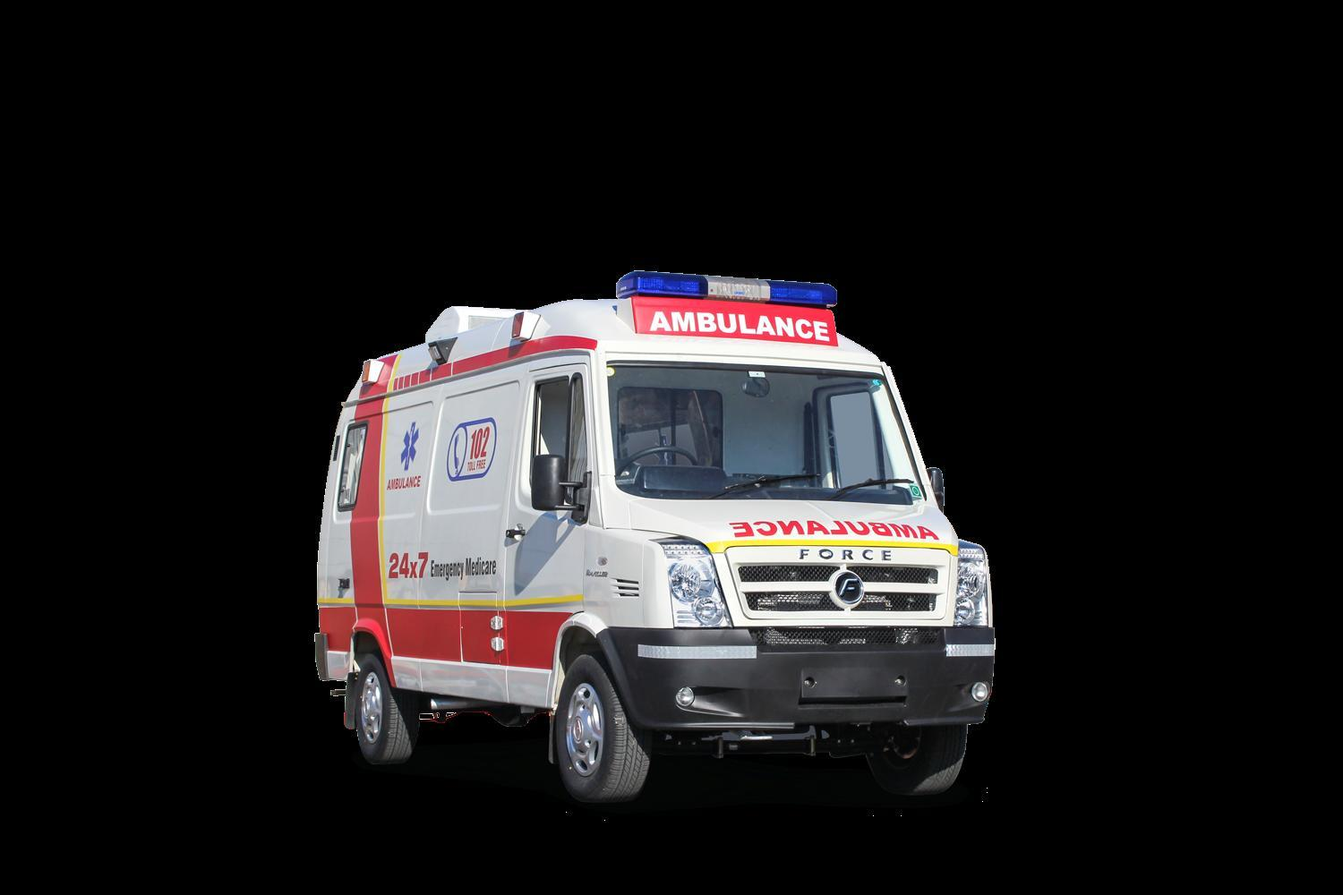Ambulance: (636, 300, 834, 349), (725, 516, 942, 550), (390, 420, 426, 472)
